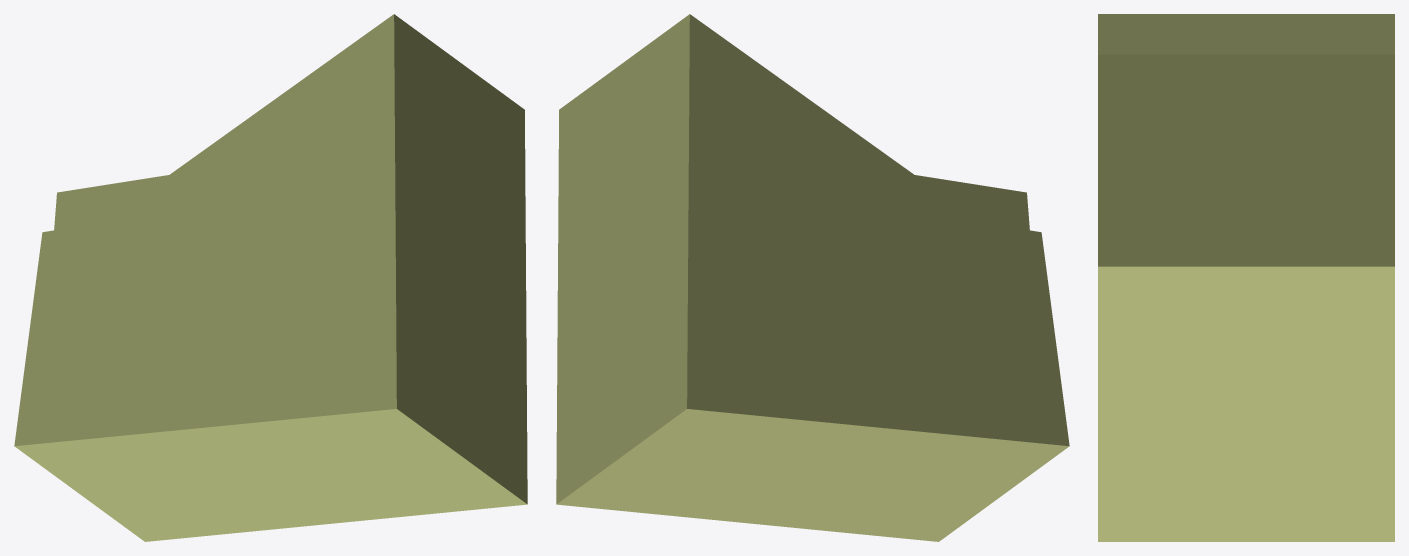
3 views of the same model, side by side, from view 1: azimuth 30°, elevation 25°; view 2: azimuth 150°, elevation 25°; view 3: azimuth 270°, elevation 25° (orthographic). The views are drawn at different scales.
Visible parts, largest first — view 1: 0_2_0_1_1_1_1_0_3; view 2: 0_2_0_1_1_1_1_0_3; view 3: 0_2_0_1_1_1_1_0_3.
Boxes of the visible parts, x1,y1,x2,y2 form: 0_2_0_1_1_1_1_0_3: (14,14,527,541); 0_2_0_1_1_1_1_0_3: (556,14,1069,541); 0_2_0_1_1_1_1_0_3: (1098,14,1394,541).
Bounding box in the file's own units: 15.2 × 15.02 × 9.
